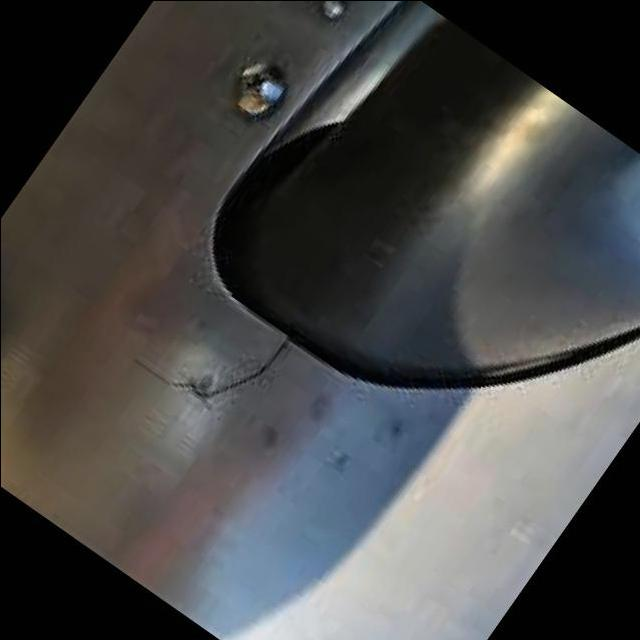defect: (128, 332, 296, 406)
